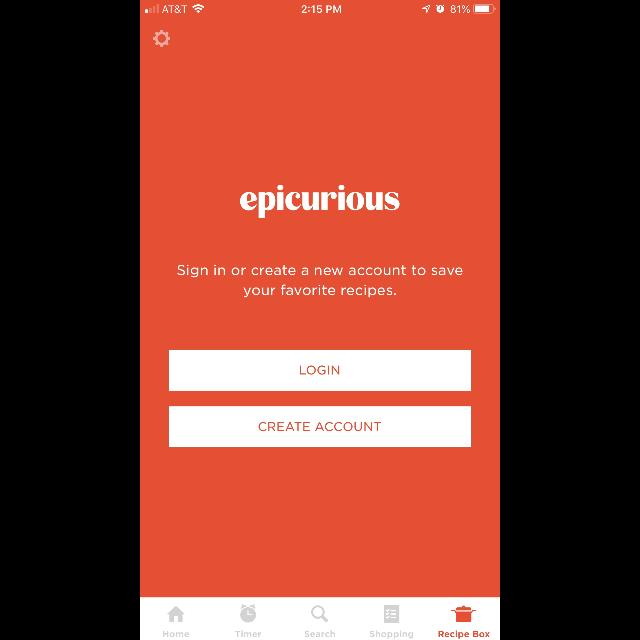icon: (154, 30, 170, 48), (167, 606, 185, 622), (240, 604, 256, 622), (384, 605, 400, 623), (312, 606, 328, 622)
image: (452, 606, 476, 622)
text: (178, 264, 462, 298), (240, 185, 400, 218), (438, 630, 489, 638), (371, 631, 414, 639), (304, 630, 336, 638), (235, 630, 261, 638), (163, 631, 189, 637)
textbutton: (169, 407, 471, 448), (169, 350, 471, 390)
uppertaskbar: (140, 0, 500, 14)
